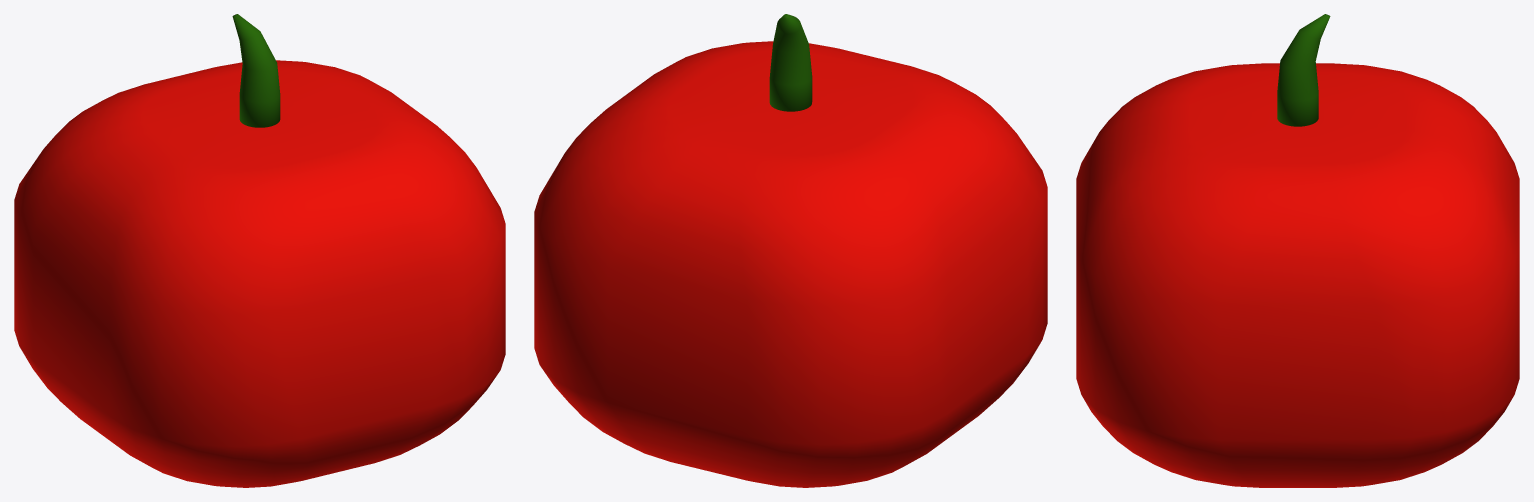
File: Tomate00.fbx
The picture shows the model from 3 angles, left to right: view 1: azimuth 30°, elevation 25°; view 2: azimuth 150°, elevation 25°; view 3: azimuth 270°, elevation 25°; orthographic projection. The views are drawn at different scales.
Visible parts, largest first — view 1: Cube; view 2: Cube; view 3: Cube.
Part boxes in pixels (x1,y1,x2,y2): Cube: [14, 14, 505, 487]; Cube: [534, 14, 1047, 487]; Cube: [1076, 14, 1519, 487].
Size of the model in its own units: 250 by 261 by 250.
